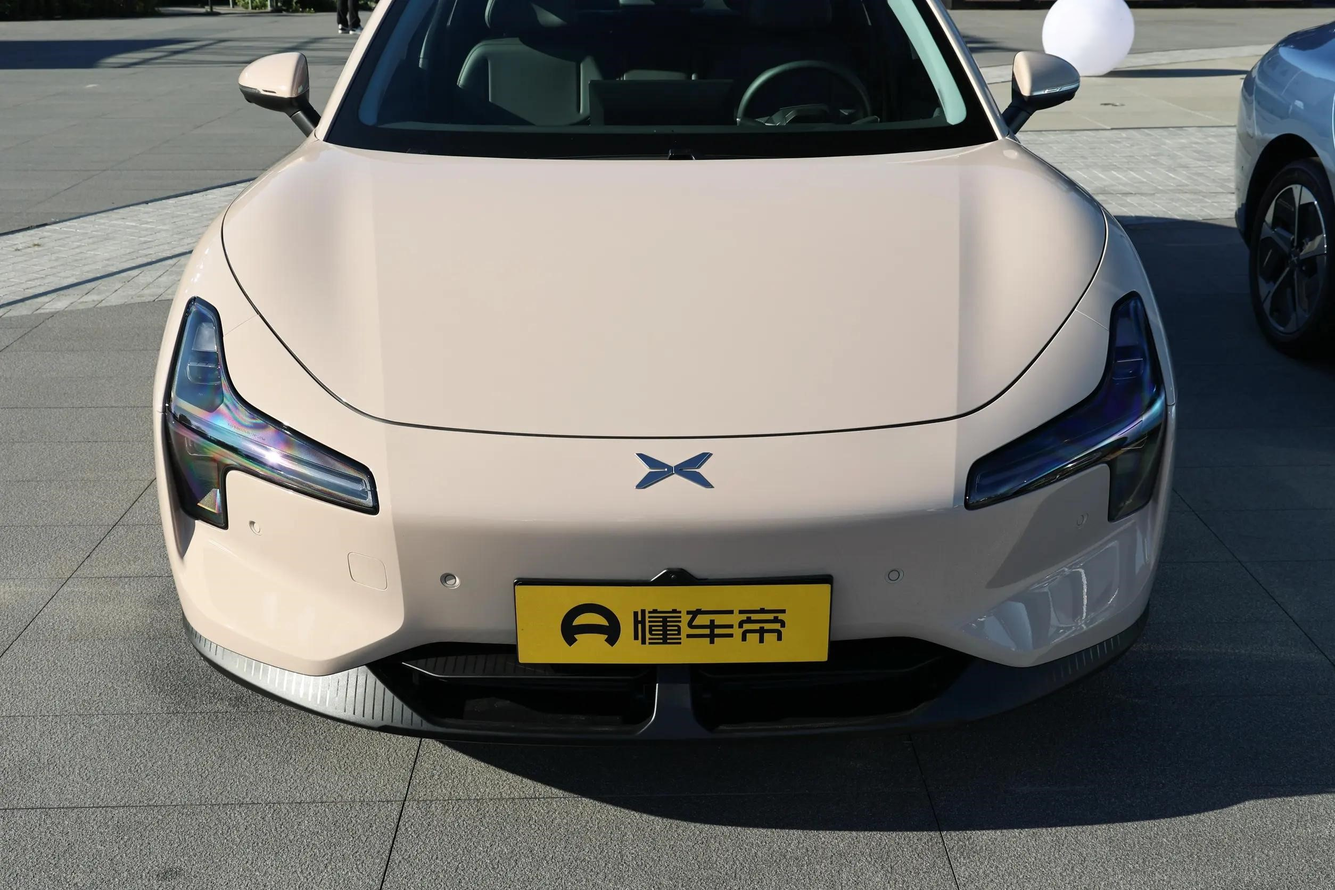XPeng Motors: (635, 452, 714, 489)
